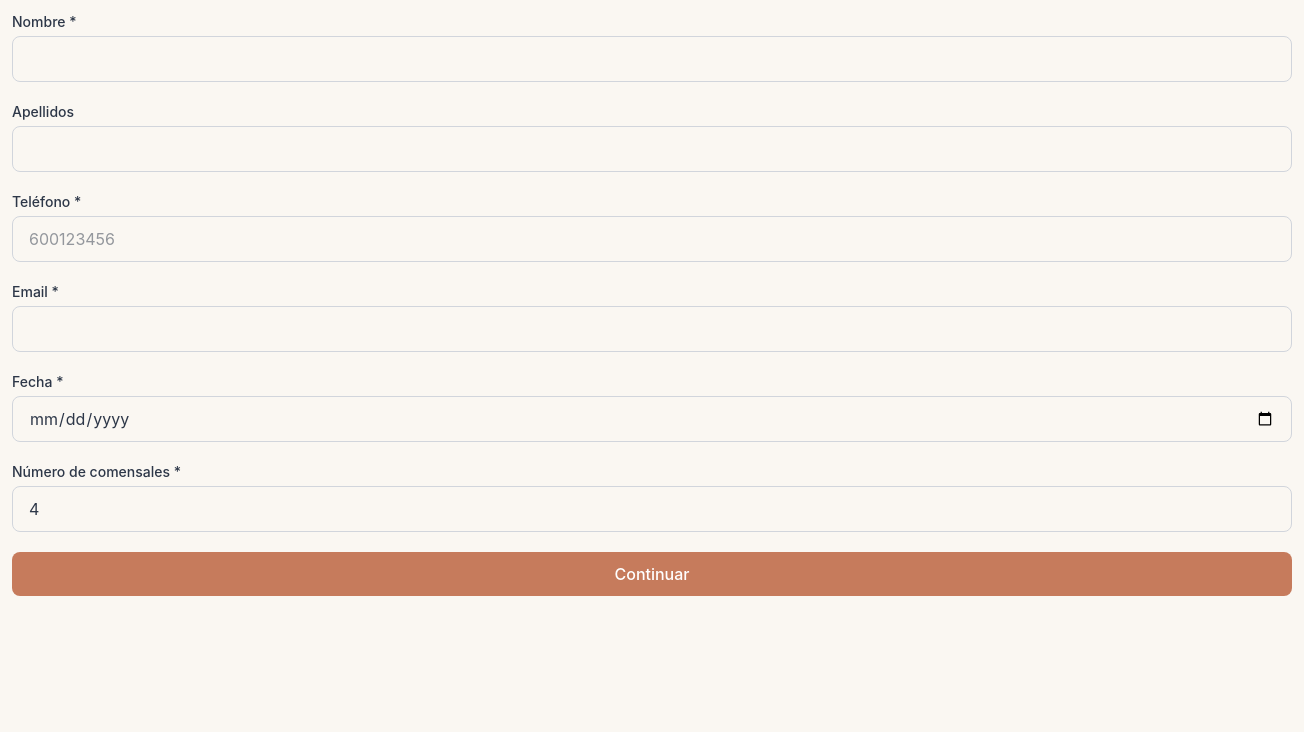
Test case: ReservationForm (RF-001 + SLA slots) › shows error when email is invalid
The width and height of the screenshot is (1304, 732).
Type "not-an-email" into the field with id "email" at (652, 329), box [12,306,1292,352]
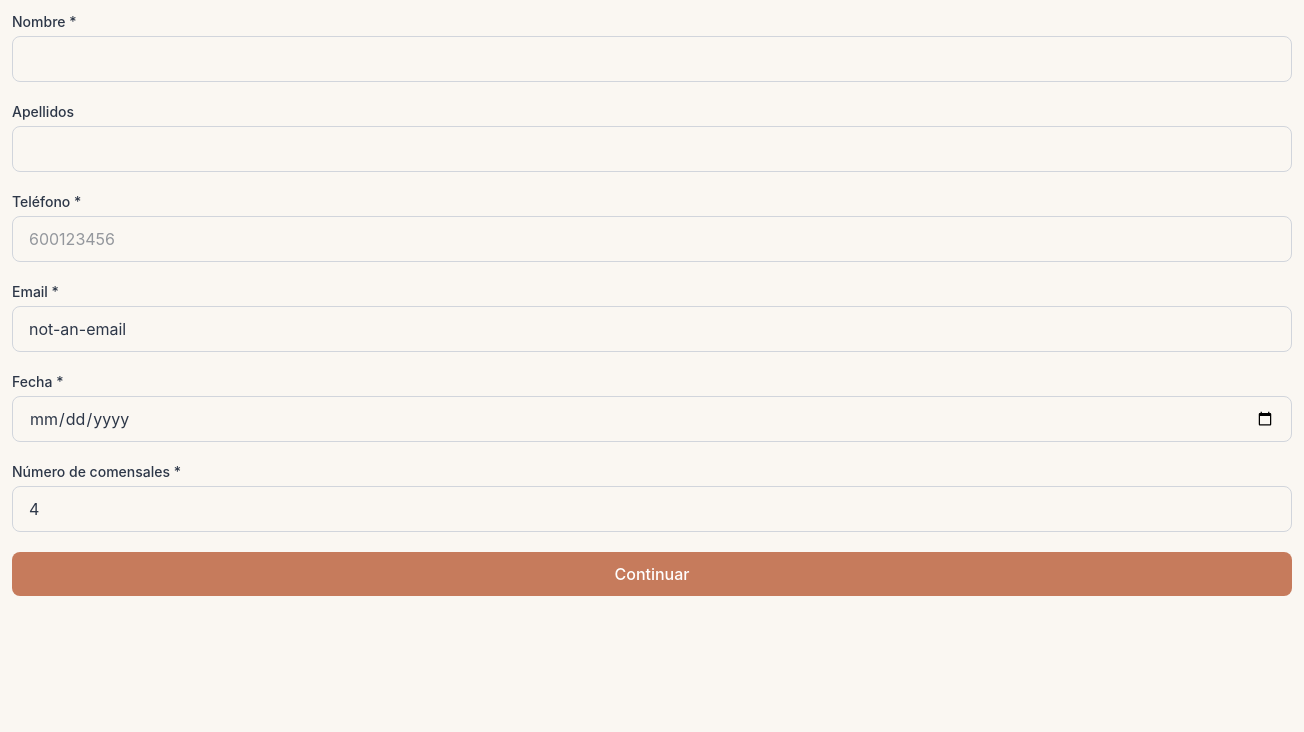
Submit the form
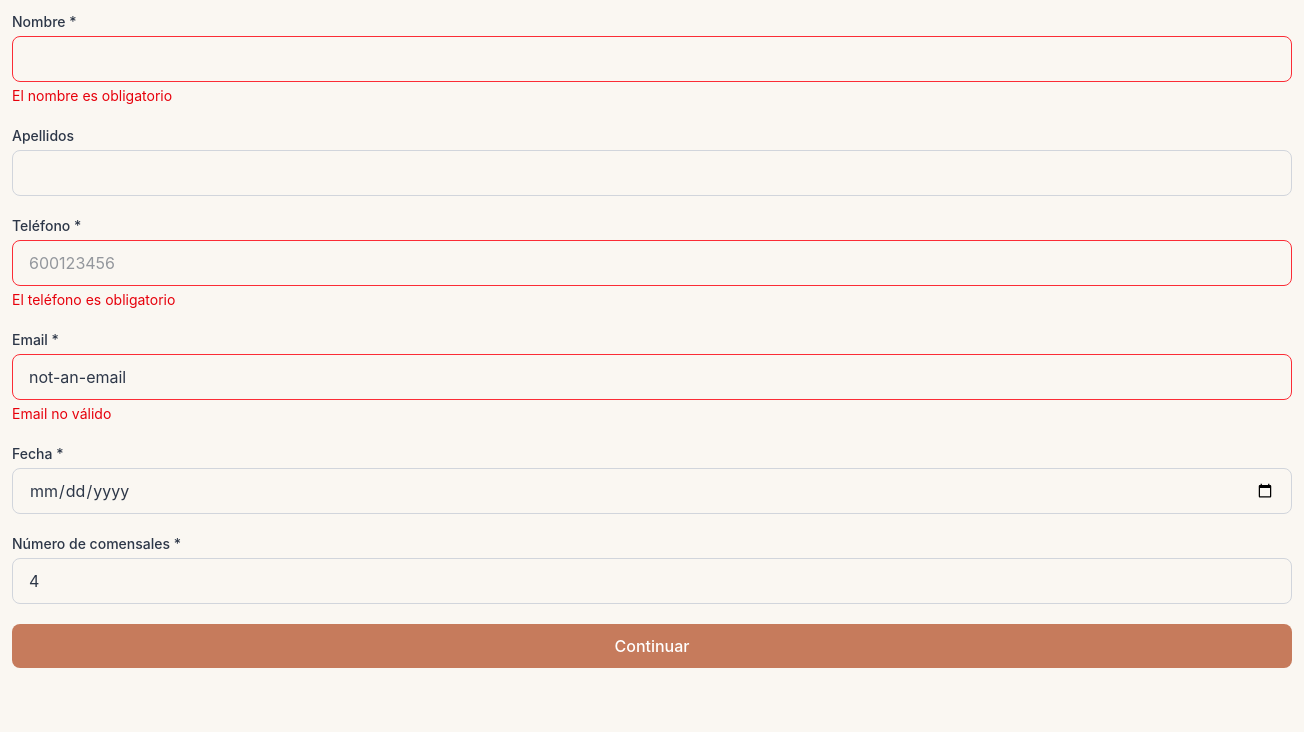
Result: the form shows "Email no válido" at [12,405,111,422]
